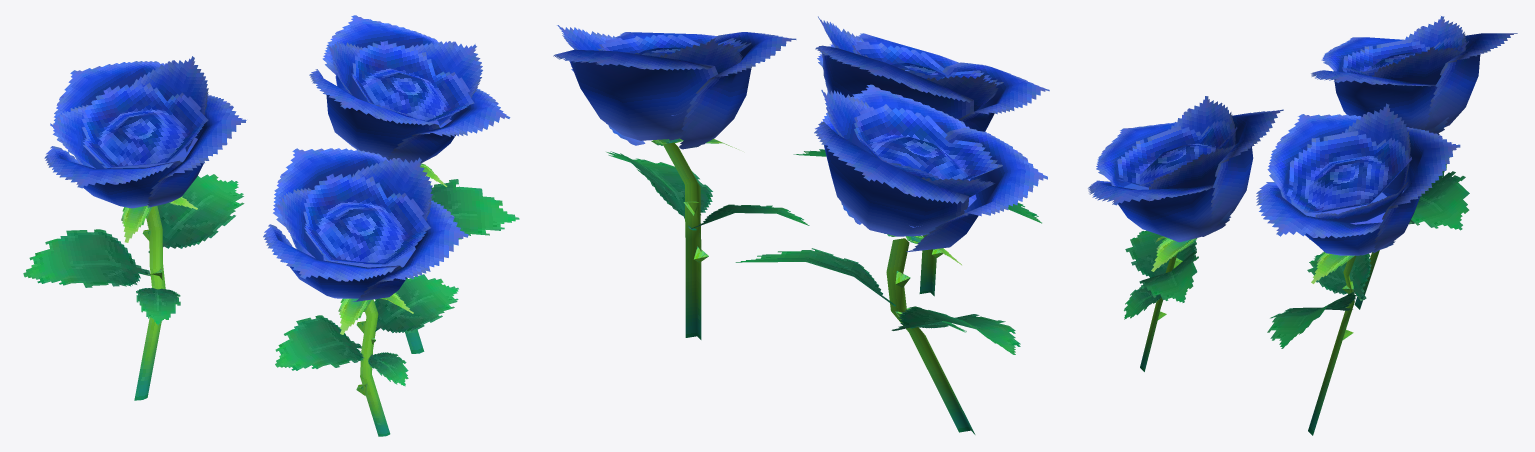
The model's file is blue-roses.glb.
3 views of the same model, side by side, from view 1: azimuth 30°, elevation 25°; view 2: azimuth 150°, elevation 25°; view 3: azimuth 270°, elevation 25° (orthographic). The views are drawn at different scales.
Size of the model in its own units: 10.07 by 6.53 by 8.37.
2 materials, 2 textured.
